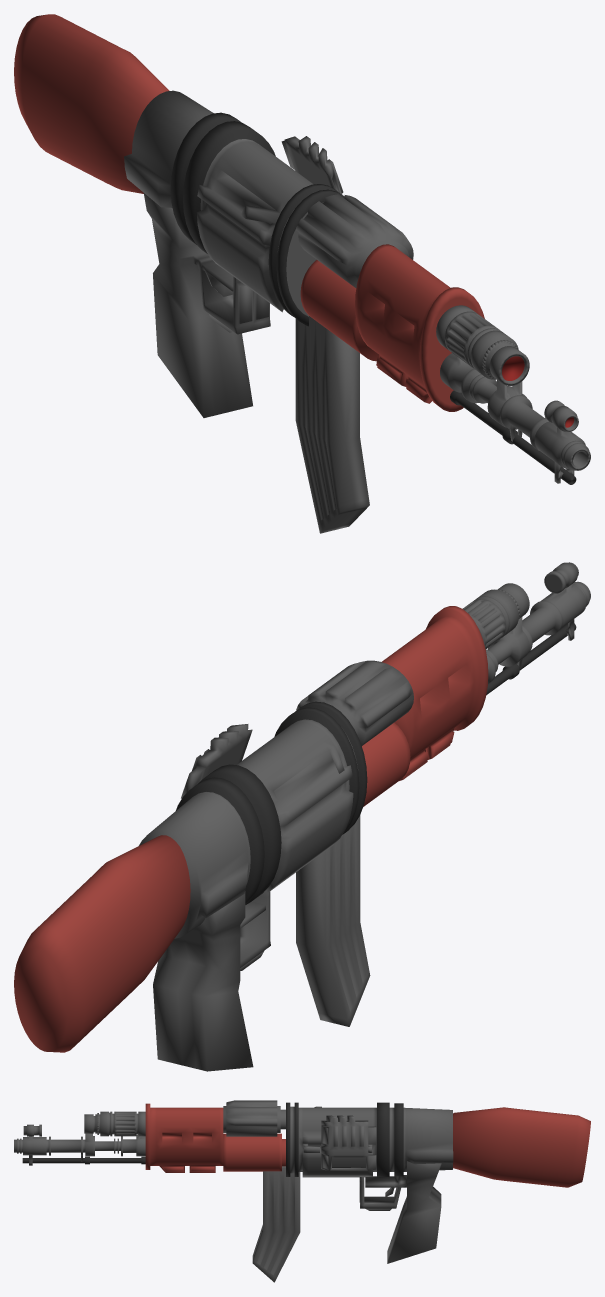
3 views of the same model, one above another, from view 1: azimuth 30°, elevation 25°; view 2: azimuth 150°, elevation 25°; view 3: azimuth 270°, elevation 25° (orthographic). The views are drawn at different scales.
Parts seen in each view (by area): view 1: Objek AK47 9, Objek AK47 11, Objek AK47 10, Objek AK47 12, Objek AK47 6, Objek AK47 7, Objek AK47 2, Objek AK47 1, Objek AK47 5, Objek AK47 3, Objek AK47 4; view 2: Objek AK47 9, Objek AK47 11, Objek AK47 10, Objek AK47 12, Objek AK47 6, Objek AK47 7, Objek AK47 2, Objek AK47 5, Objek AK47 1, Objek AK47 3, Objek AK47 4; view 3: Objek AK47 9, Objek AK47 11, Objek AK47 6, Objek AK47 10, Objek AK47 12, Objek AK47 5, Objek AK47 7, Objek AK47 2, Objek AK47 1, Objek AK47 3.
Part boxes in pixels (x1=…): Objek AK47 9: x1=124, y1=90, x2=344, y2=326; Objek AK47 11: x1=14, y1=14, x2=169, y2=193; Objek AK47 10: x1=143, y1=193, x2=270, y2=417; Objek AK47 12: x1=295, y1=316, x2=369, y2=533; Objek AK47 6: x1=355, y1=244, x2=484, y2=411; Objek AK47 7: x1=296, y1=194, x2=413, y2=287; Objek AK47 2: x1=440, y1=353, x2=590, y2=483; Objek AK47 1: x1=436, y1=305, x2=529, y2=385; Objek AK47 5: x1=300, y1=260, x2=379, y2=361; Objek AK47 3: x1=450, y1=390, x2=576, y2=484; Objek AK47 4: x1=544, y1=400, x2=578, y2=431; Objek AK47 9: x1=139, y1=701, x2=367, y2=938; Objek AK47 11: x1=14, y1=835, x2=190, y2=1052; Objek AK47 10: x1=153, y1=890, x2=270, y2=1071; Objek AK47 12: x1=296, y1=815, x2=370, y2=1026; Objek AK47 6: x1=382, y1=606, x2=488, y2=780; Objek AK47 7: x1=296, y1=660, x2=413, y2=745; Objek AK47 2: x1=486, y1=581, x2=590, y2=683; Objek AK47 5: x1=362, y1=722, x2=410, y2=806; Objek AK47 1: x1=463, y1=583, x2=529, y2=649; Objek AK47 3: x1=486, y1=623, x2=576, y2=694; Objek AK47 4: x1=544, y1=562, x2=578, y2=593; Objek AK47 9: x1=286, y1=1102, x2=453, y2=1177; Objek AK47 11: x1=453, y1=1107, x2=590, y2=1187; Objek AK47 6: x1=145, y1=1103, x2=223, y2=1172; Objek AK47 10: x1=359, y1=1161, x2=441, y2=1263; Objek AK47 12: x1=252, y1=1166, x2=300, y2=1282; Objek AK47 5: x1=223, y1=1133, x2=285, y2=1171; Objek AK47 7: x1=223, y1=1100, x2=285, y2=1136; Objek AK47 2: x1=14, y1=1133, x2=145, y2=1165; Objek AK47 1: x1=84, y1=1111, x2=145, y2=1136; Objek AK47 3: x1=22, y1=1156, x2=145, y2=1164.
Bounding box in the file's own units: 76.41 × 213 × 632.
